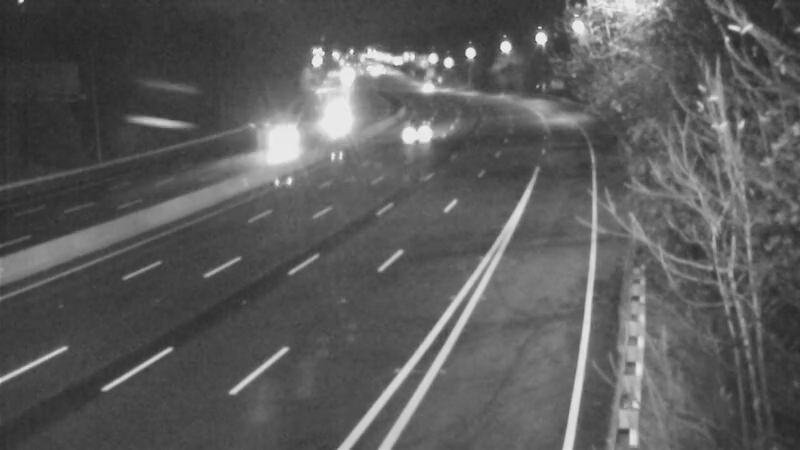vehicle: (399, 58, 449, 108), (401, 109, 451, 159), (258, 119, 308, 169), (313, 90, 363, 140)
